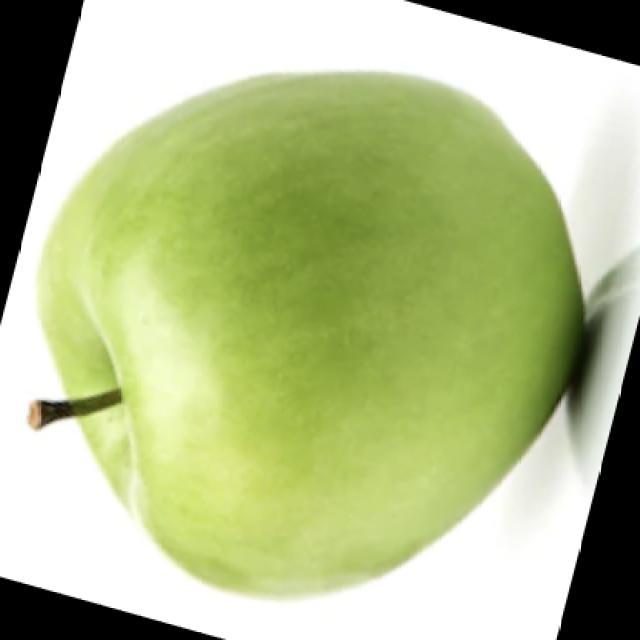Fresh Apple: (33, 55, 577, 578)
